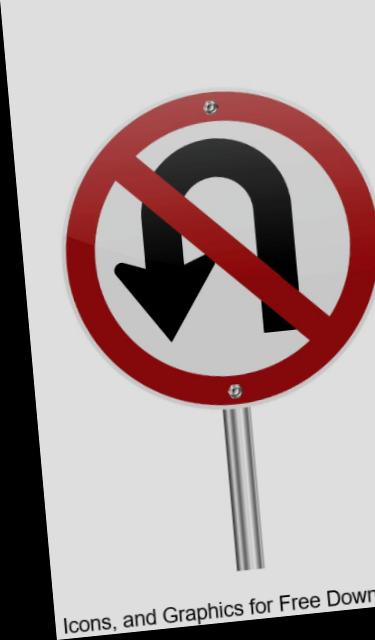not_u_turn_left: (50, 79, 375, 421)
